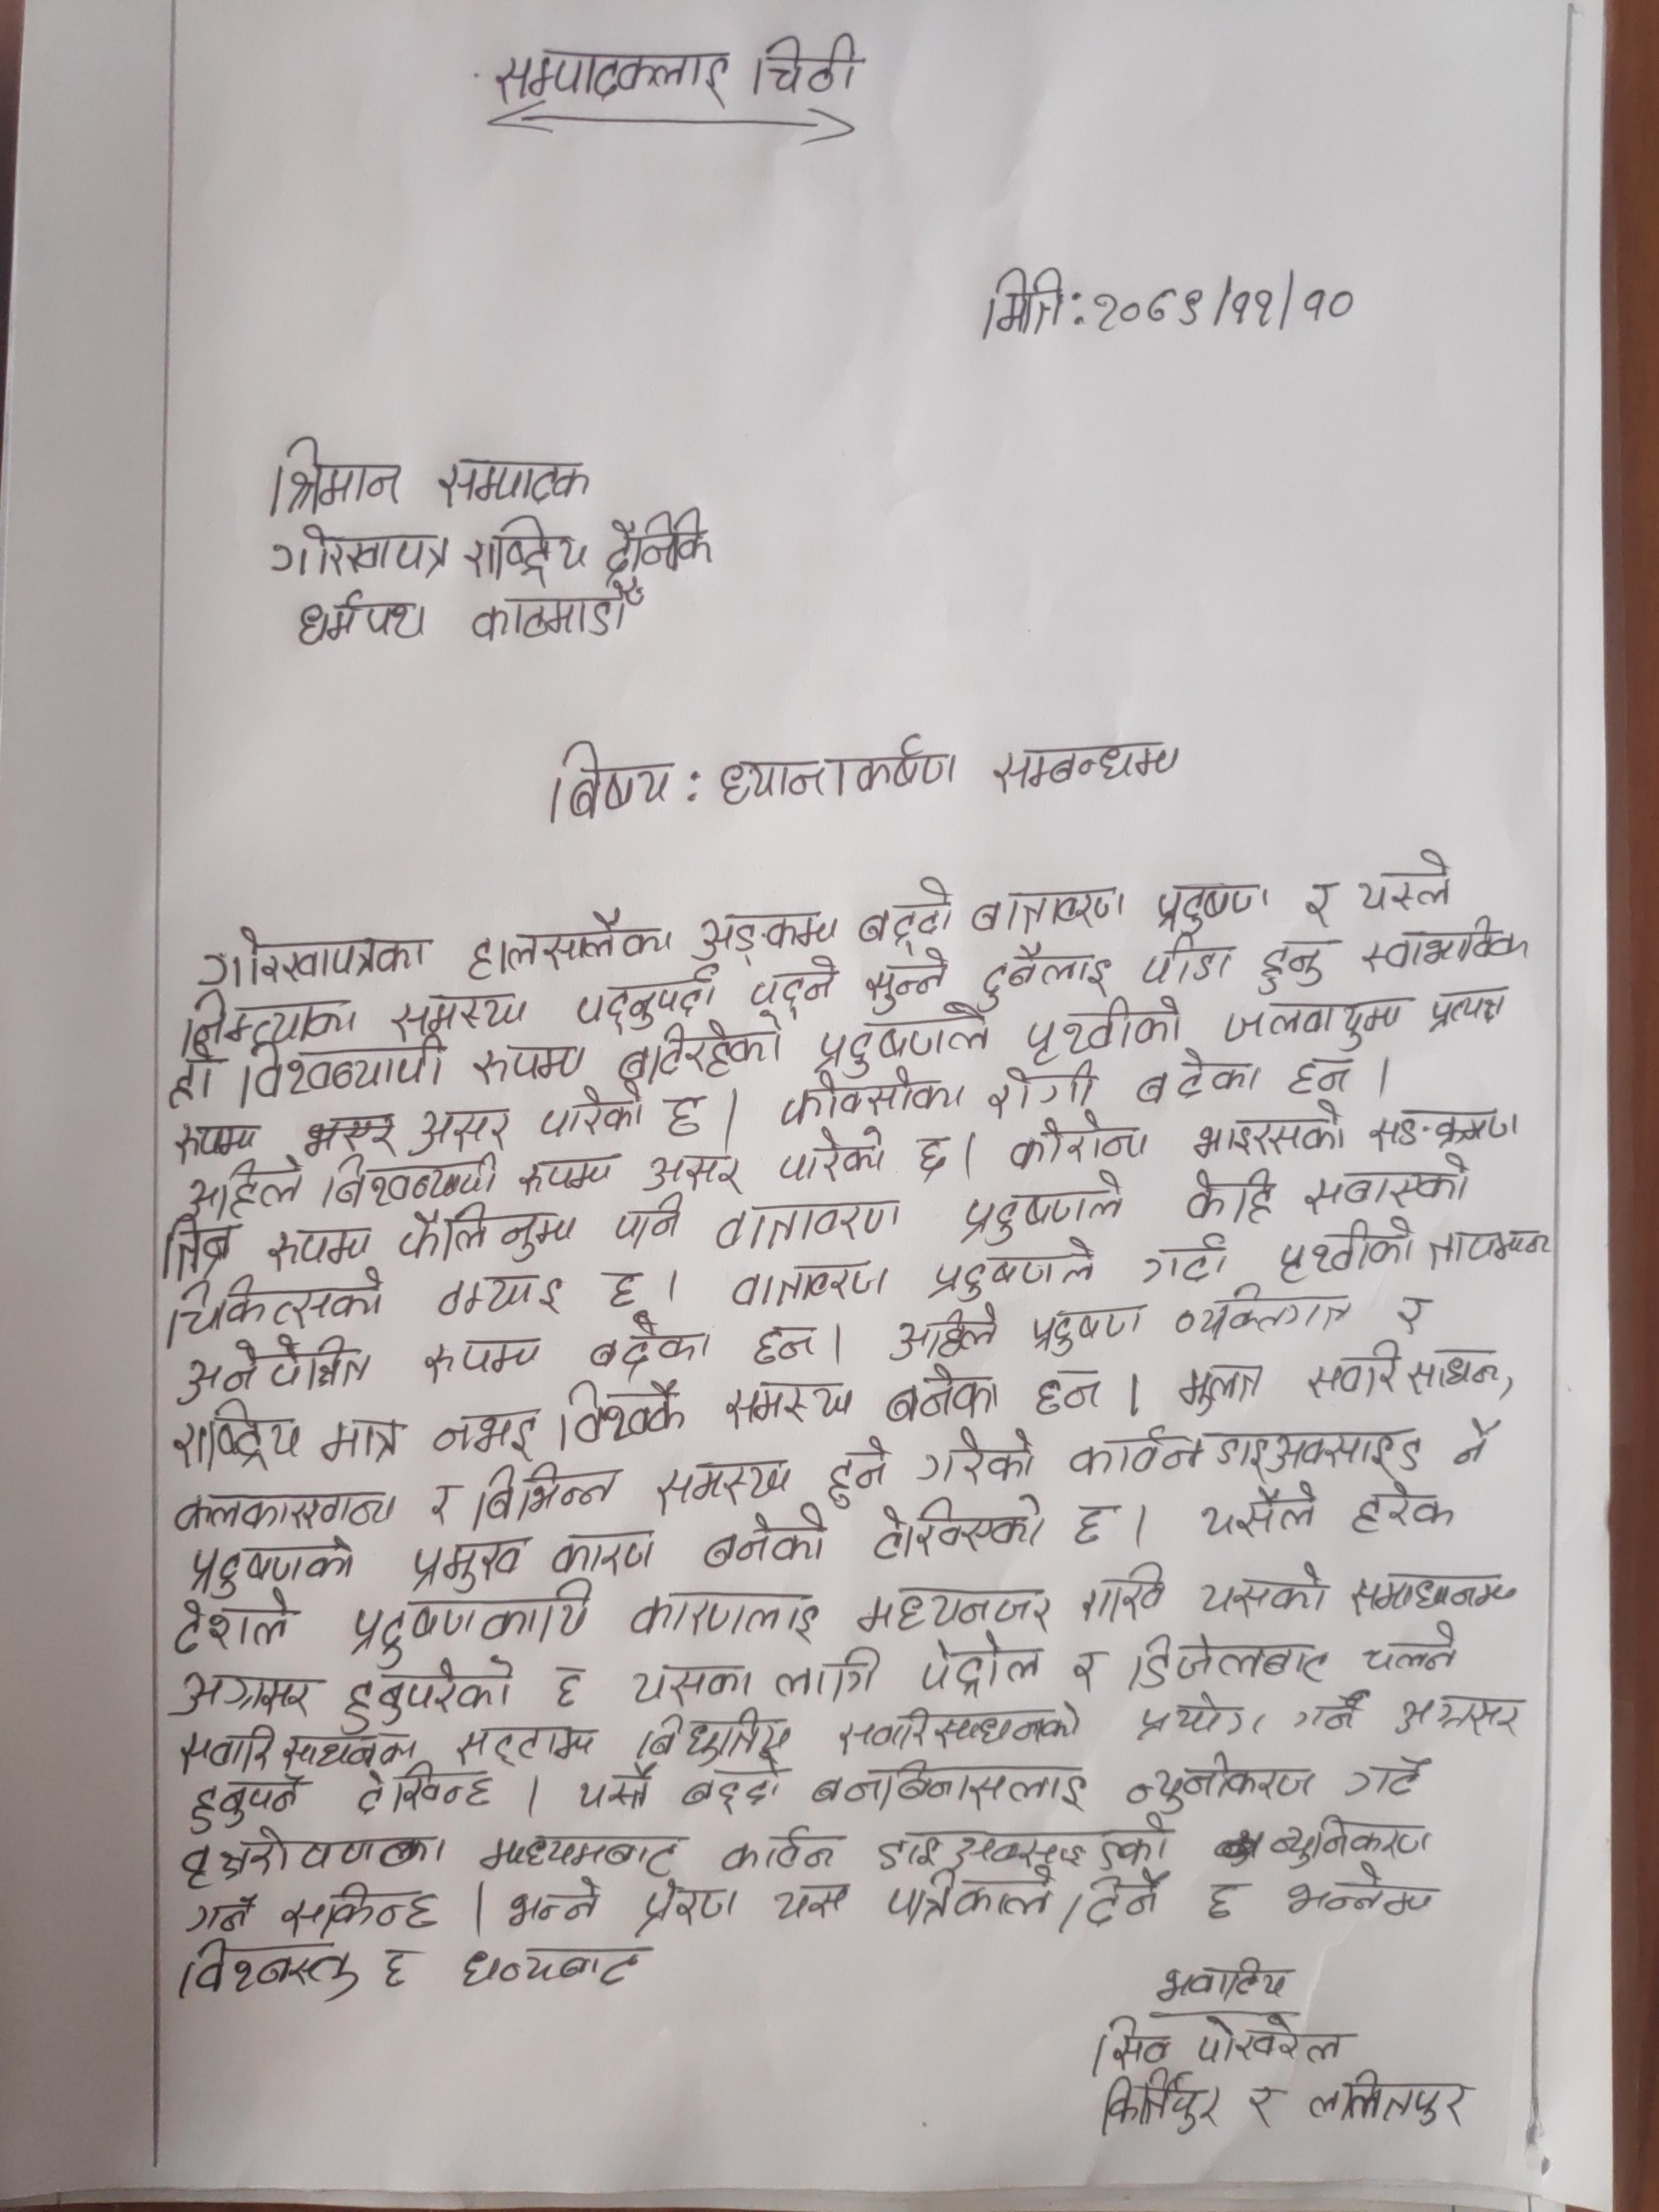text: (350, 1578, 592, 1669), (1061, 1421, 1424, 1477), (713, 733, 964, 812), (1093, 272, 1359, 340), (174, 1824, 450, 1885), (805, 1757, 1089, 1815), (873, 1815, 1175, 1869), (193, 920, 429, 988), (488, 42, 735, 106), (465, 909, 683, 981), (173, 1937, 364, 2010), (1129, 1630, 1333, 1698), (835, 1700, 1087, 1754), (179, 1533, 361, 1604), (868, 1494, 1049, 1566), (179, 1338, 375, 1404), (1302, 1338, 1506, 1400), (263, 434, 406, 519), (166, 1486, 406, 1536), (964, 1169, 1126, 1244), (336, 1660, 514, 1728), (162, 1280, 385, 1334), (237, 1045, 446, 1103), (542, 735, 676, 824), (805, 1015, 995, 1078), (854, 1580, 1060, 1637), (992, 738, 1195, 796), (1361, 914, 1532, 982), (178, 1724, 423, 1771), (1119, 1750, 1317, 1808), (1305, 2067, 1478, 2134), (467, 580, 647, 643), (1168, 1278, 1358, 1338), (401, 1200, 586, 1259), (1220, 995, 1403, 1054), (927, 1240, 1100, 1303), (1025, 996, 1183, 1064), (1302, 1155, 1473, 1217), (455, 1942, 647, 1998), (885, 1865, 1060, 1926), (169, 1400, 310, 1475), (1185, 1097, 1351, 1160), (627, 1588, 819, 1642), (476, 1831, 692, 1878), (1263, 1808, 1434, 1867), (1274, 1216, 1419, 1285), (176, 989, 361, 1043), (471, 1458, 620, 1524), (598, 502, 721, 582), (267, 523, 455, 575), (321, 1150, 497, 1205), (629, 1709, 795, 1768), (713, 1200, 904, 1251), (568, 965, 718, 1029), (779, 1069, 964, 1122), (974, 941, 1114, 1008), (556, 1379, 687, 1451), (1345, 1568, 1530, 1618), (436, 451, 601, 507), (460, 512, 589, 583), (617, 1029, 793, 1082), (1096, 2073, 1229, 2141), (279, 1885, 444, 1939), (1195, 2012, 1354, 2067), (1368, 1099, 1525, 1155), (164, 1667, 319, 1723), (1283, 1865, 1439, 1919), (167, 1595, 301, 1658), (910, 1632, 1044, 1695), (1127, 1689, 1272, 1747), (587, 1315, 713, 1381), (293, 590, 429, 651), (962, 890, 1131, 939), (699, 1510, 830, 1573), (1194, 1562, 1330, 1622), (357, 1764, 504, 1818), (1131, 1049, 1260, 1109), (748, 31, 866, 98), (687, 904, 842, 954), (653, 1458, 798, 1512), (730, 1261, 896, 1308), (856, 873, 957, 949), (181, 1160, 307, 1221), (1197, 1480, 1326, 1540), (1394, 1693, 1535, 1747), (1011, 1116, 1154, 1169), (878, 1369, 1004, 1428), (716, 1820, 843, 1878), (387, 991, 537, 1040), (1154, 1954, 1293, 2006), (406, 1536, 532, 1594), (979, 265, 1068, 345), (181, 1773, 301, 1832), (1025, 1299, 1152, 1355), (915, 1428, 1042, 1484), (775, 1127, 894, 1186), (721, 1379, 856, 1432), (427, 1400, 538, 1463), (983, 1059, 1100, 1118), (1183, 1160, 1284, 1228), (446, 1723, 598, 1768), (1354, 850, 1460, 914), (432, 1270, 570, 1318), (890, 1305, 1000, 1366), (678, 1761, 791, 1818), (1347, 1479, 1457, 1538), (1068, 1869, 1168, 1933), (1358, 1622, 1466, 1681), (861, 948, 955, 1015), (423, 1331, 549, 1381), (1134, 930, 1241, 989), (535, 1083, 647, 1139), (629, 1660, 756, 1709), (772, 1648, 882, 1703), (1079, 1562, 1168, 1629), (1429, 1224, 1553, 1271), (498, 1878, 613, 1928), (1147, 883, 1269, 930), (263, 1226, 385, 1273), (547, 1526, 657, 1578), (749, 951, 836, 1015), (638, 1878, 744, 1930), (406, 1104, 519, 1153), (1342, 1747, 1432, 1808), (1138, 1233, 1237, 1287), (465, 1040, 586, 1083), (1176, 1360, 1267, 1418), (824, 1439, 894, 1508), (321, 1413, 406, 1468), (1253, 935, 1333, 995), (641, 1155, 744, 1198), (1087, 2015, 1173, 2067), (157, 1228, 242, 1278), (1032, 1362, 1108, 1418), (519, 1151, 617, 1195), (767, 1878, 852, 1926), (610, 1197, 688, 1249), (566, 1771, 653, 1818), (173, 1120, 261, 1165), (1427, 981, 1511, 1028), (186, 1888, 267, 1935), (166, 1050, 228, 1109), (1286, 1689, 1364, 1737), (749, 1318, 816, 1367), (1286, 1052, 1354, 1099), (1391, 1287, 1452, 1334), (1453, 1414, 1504, 1470), (1197, 1878, 1246, 1926), (1060, 1646, 1107, 1696), (1072, 1498, 1114, 1548), (1304, 871, 1338, 930), (547, 1667, 594, 1710), (659, 1097, 704, 1141), (908, 1130, 948, 1179), (1249, 2080, 1284, 2135), (373, 1947, 416, 1991), (599, 1261, 640, 1308), (420, 1475, 455, 1524)
